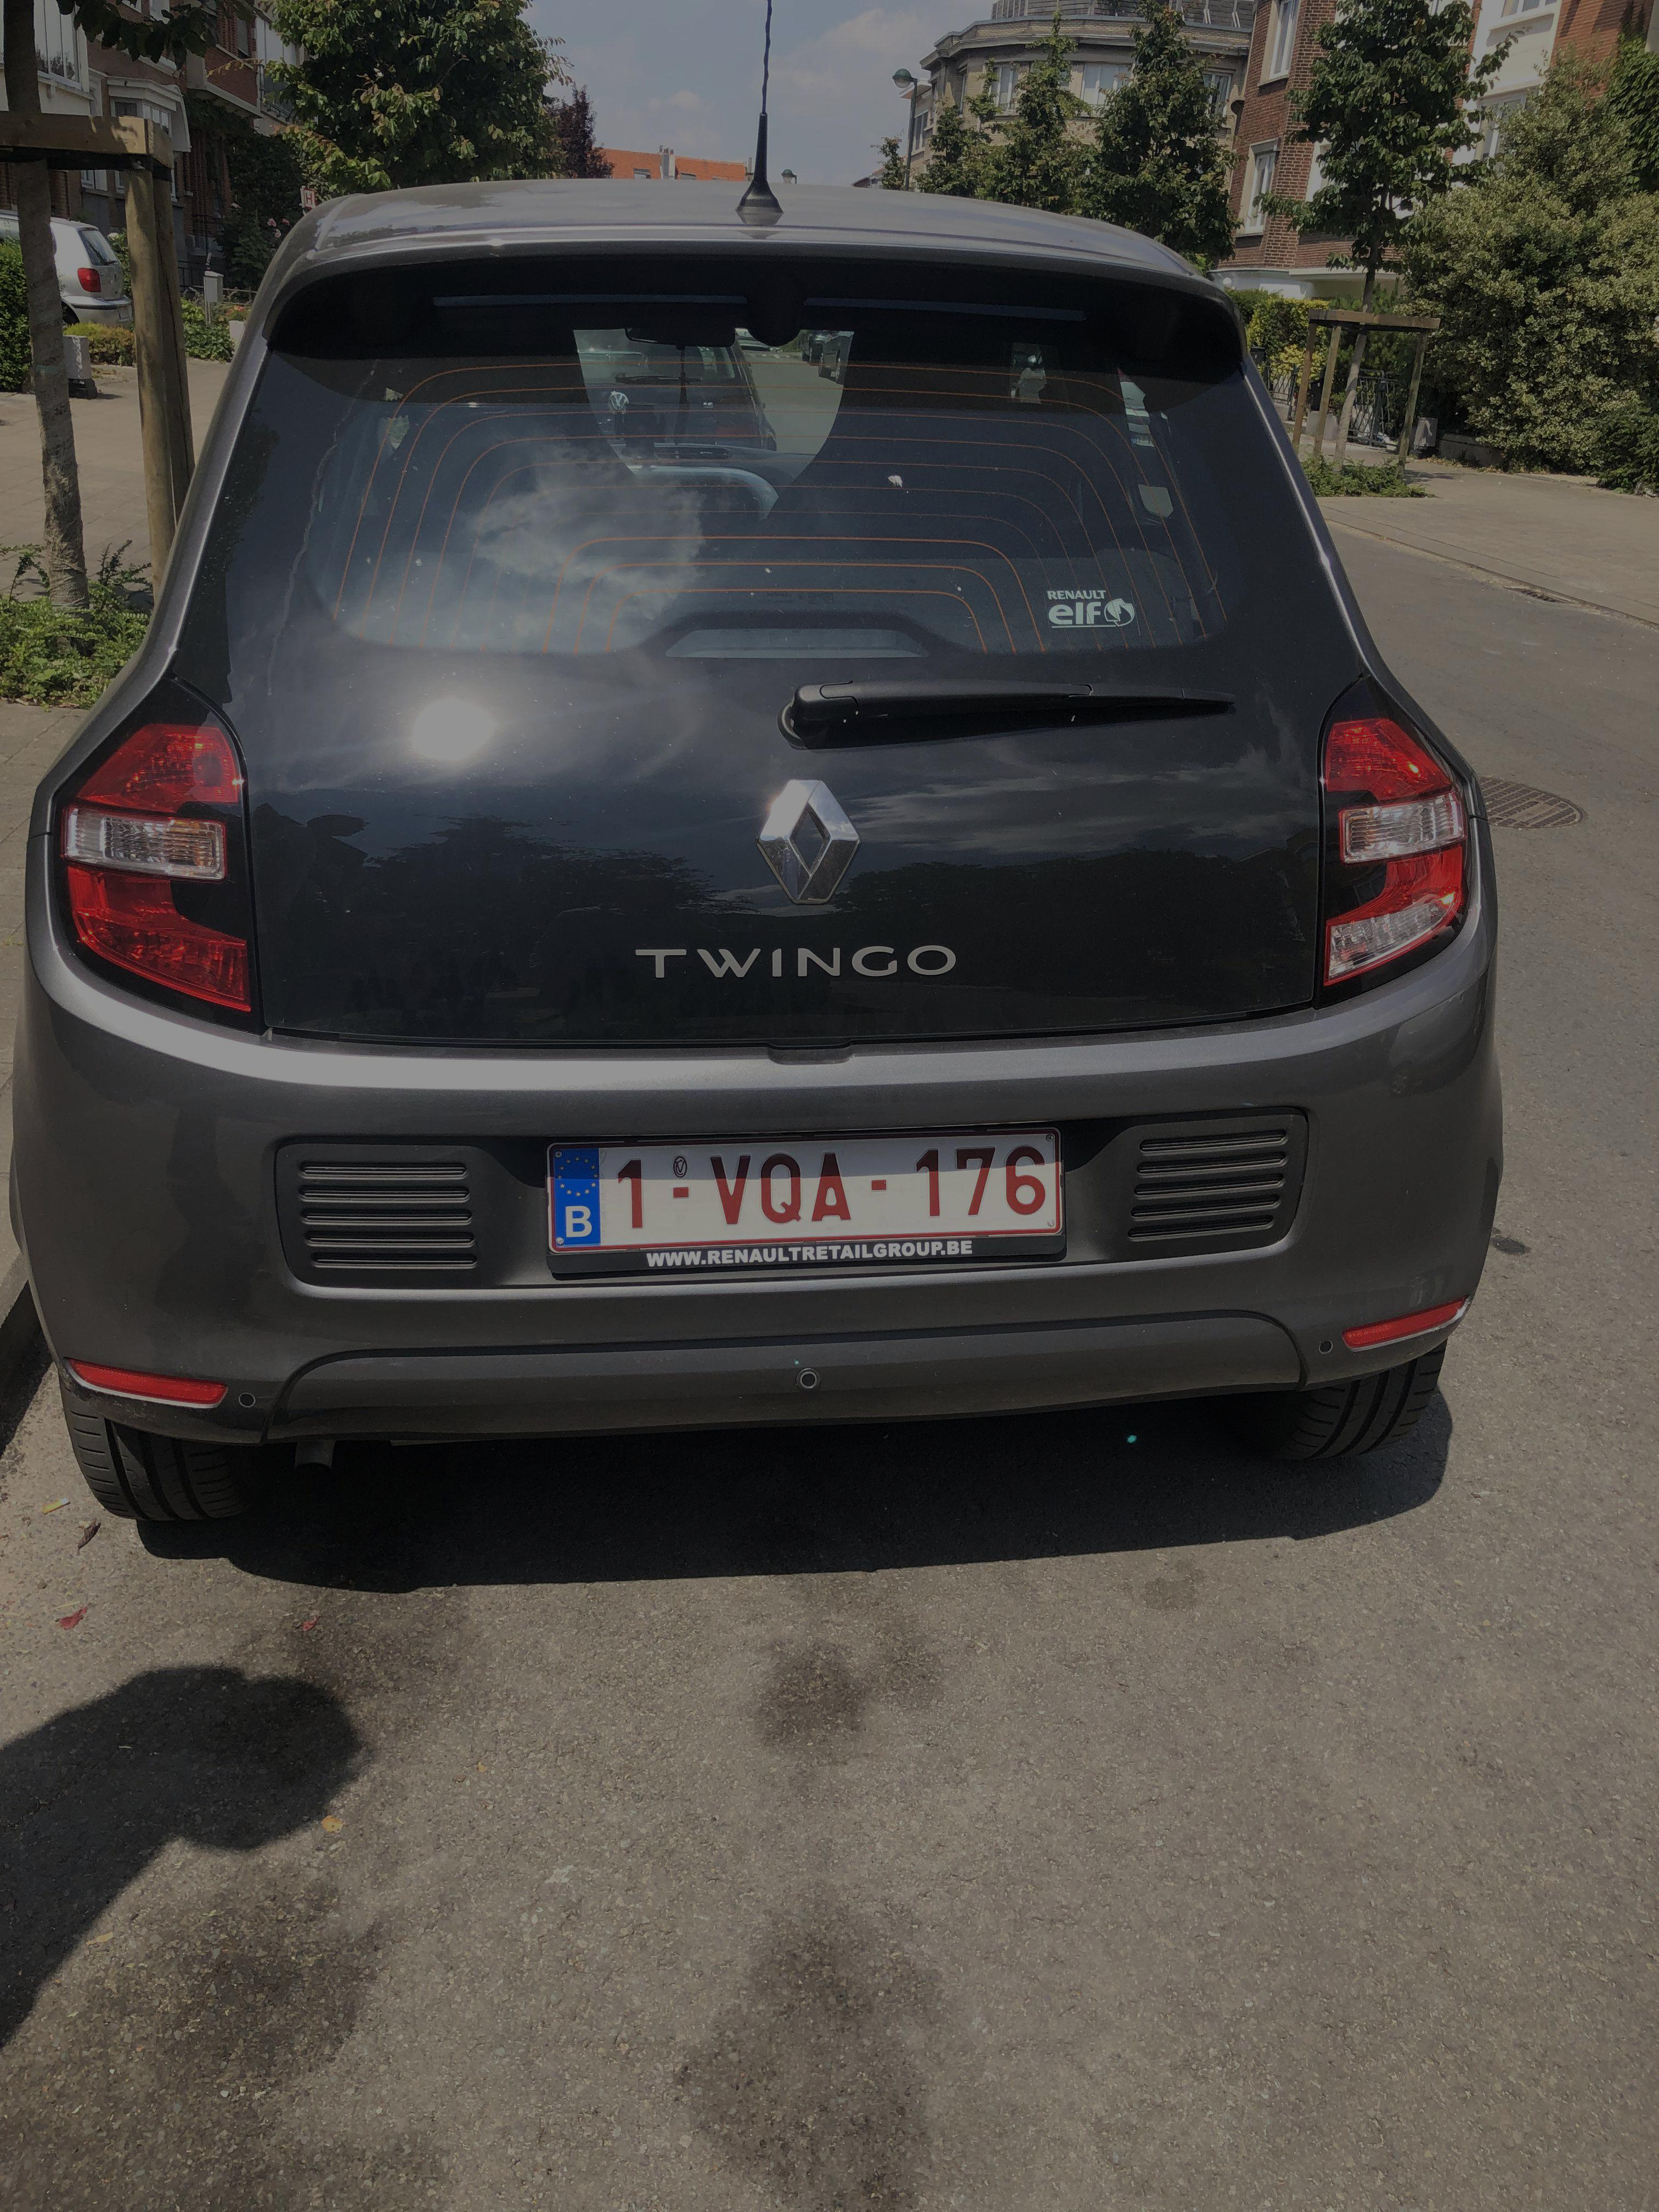plate: (506, 1102, 1100, 1256)
